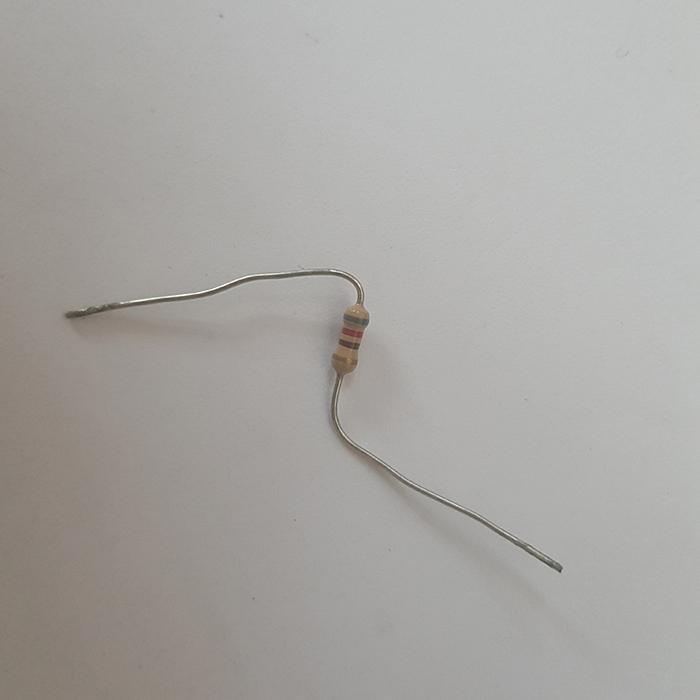resistor: (331, 301, 370, 378)
